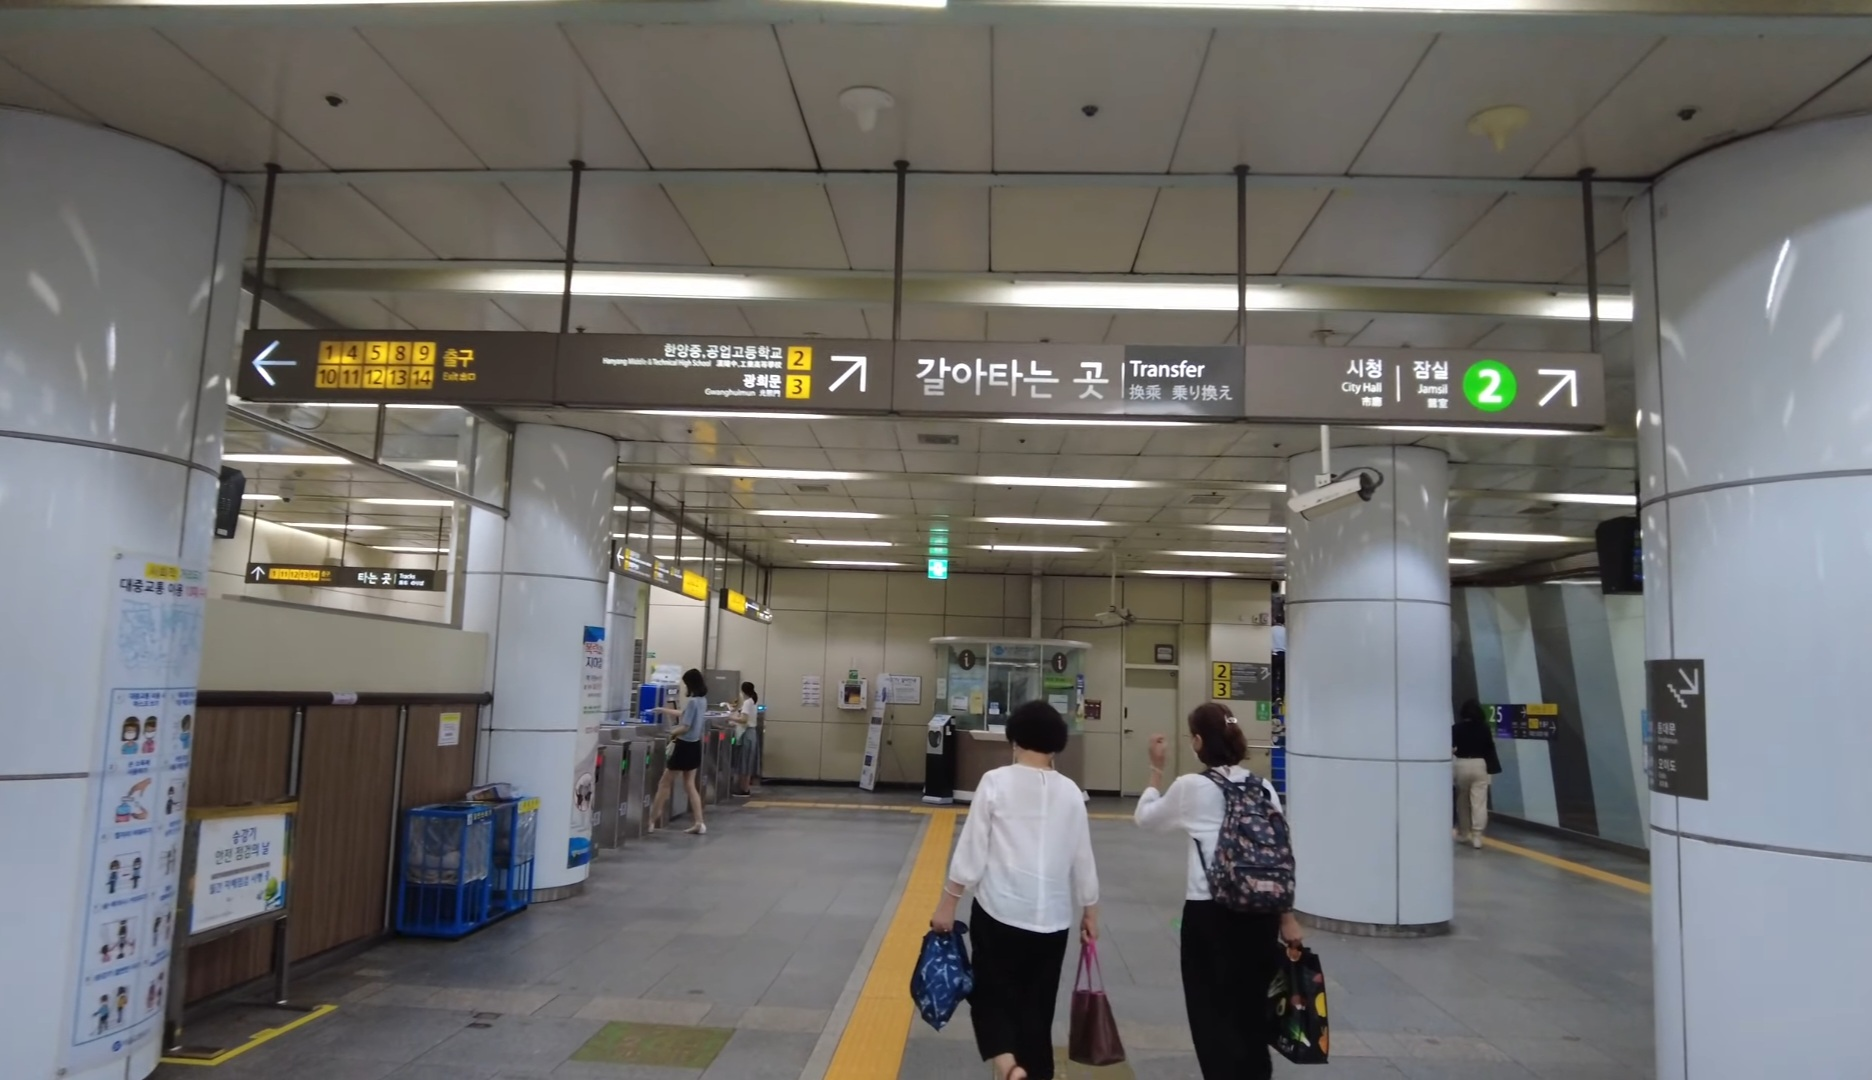signBoard: (219, 321, 1614, 440)
